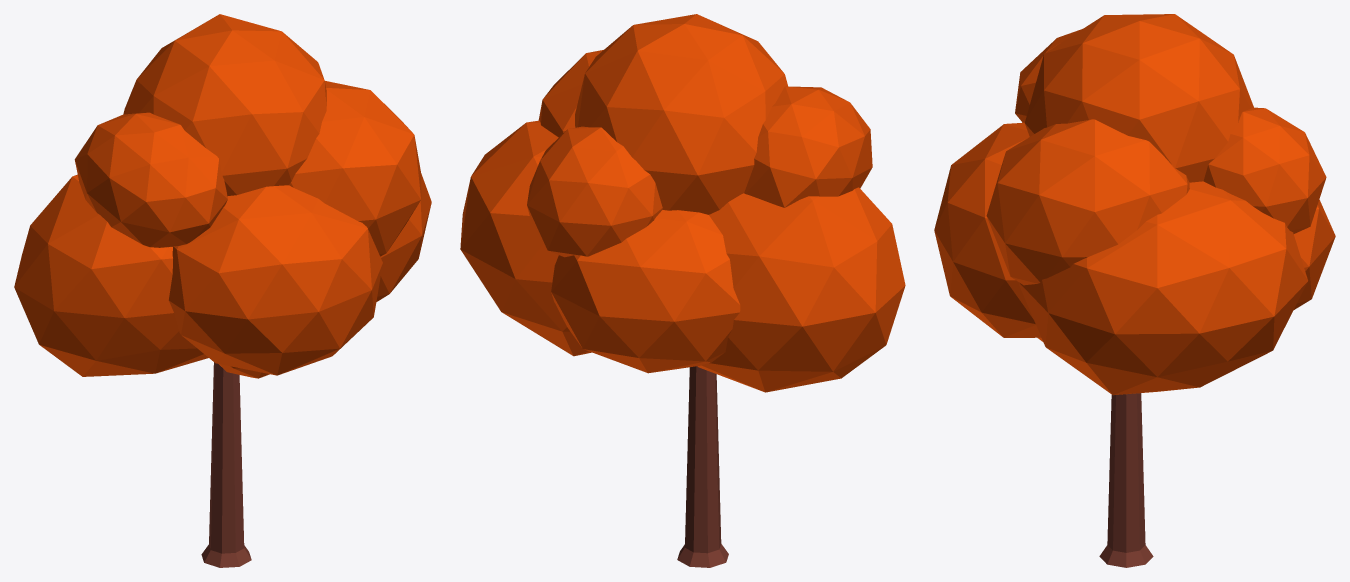
The model's file is Tree1.fbx.
The picture shows the model from 3 angles, left to right: view 1: azimuth 30°, elevation 25°; view 2: azimuth 150°, elevation 25°; view 3: azimuth 270°, elevation 25°; orthographic projection. The views are drawn at different scales.
Visible parts, largest first — view 1: Icosphere.011, Circle.004; view 2: Icosphere.011, Circle.004; view 3: Icosphere.011, Circle.004.
Part boxes in pixels (x1,y1,x2,y2): Icosphere.011: [14, 14, 431, 378]; Circle.004: [201, 362, 251, 567]; Icosphere.011: [460, 14, 905, 392]; Circle.004: [677, 366, 728, 567]; Icosphere.011: [934, 14, 1335, 395]; Circle.004: [1099, 393, 1153, 567].
Bounding box in the file's own units: 324 × 413 × 277.
